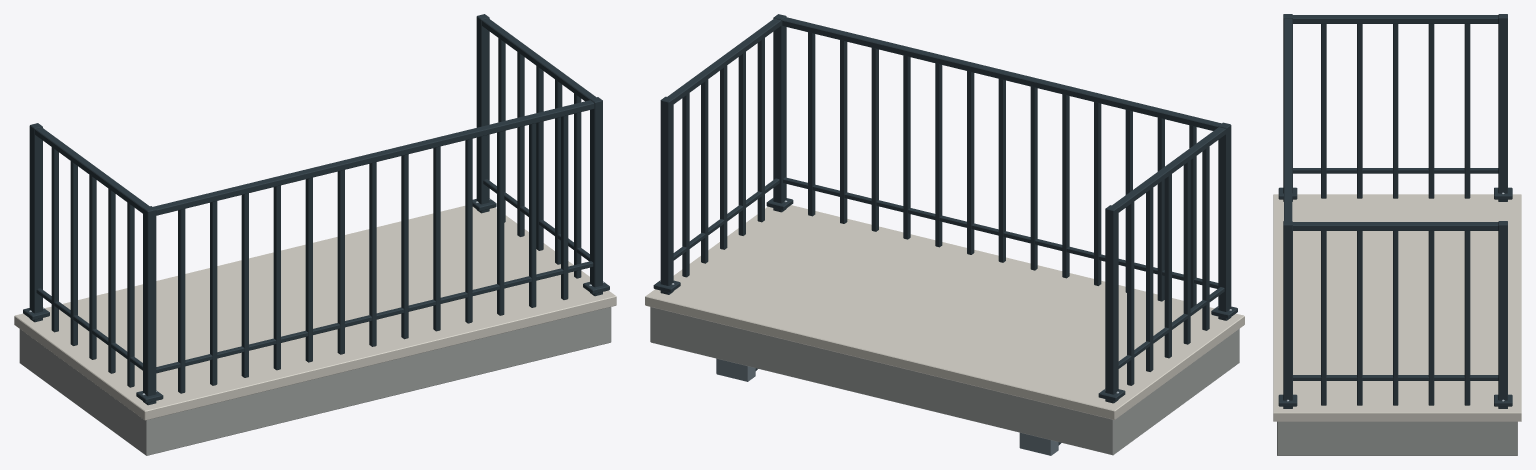
Rendered from b12_cantilever_apartment_balcony.glb.
The picture shows the model from 3 angles, left to right: view 1: azimuth 30°, elevation 25°; view 2: azimuth 150°, elevation 25°; view 3: azimuth 270°, elevation 25°; orthographic projection. The views are drawn at different scales.
Parts seen in each view (by area): view 1: b12_cantilever_apartment_balcony; view 2: b12_cantilever_apartment_balcony; view 3: b12_cantilever_apartment_balcony.
Part boxes in pixels (x1,y1,x2,y2): b12_cantilever_apartment_balcony: (14, 14, 616, 455); b12_cantilever_apartment_balcony: (645, 14, 1244, 455); b12_cantilever_apartment_balcony: (1273, 14, 1521, 455).
Size of the model in its own units: 2.79 by 1.5 by 1.34.
